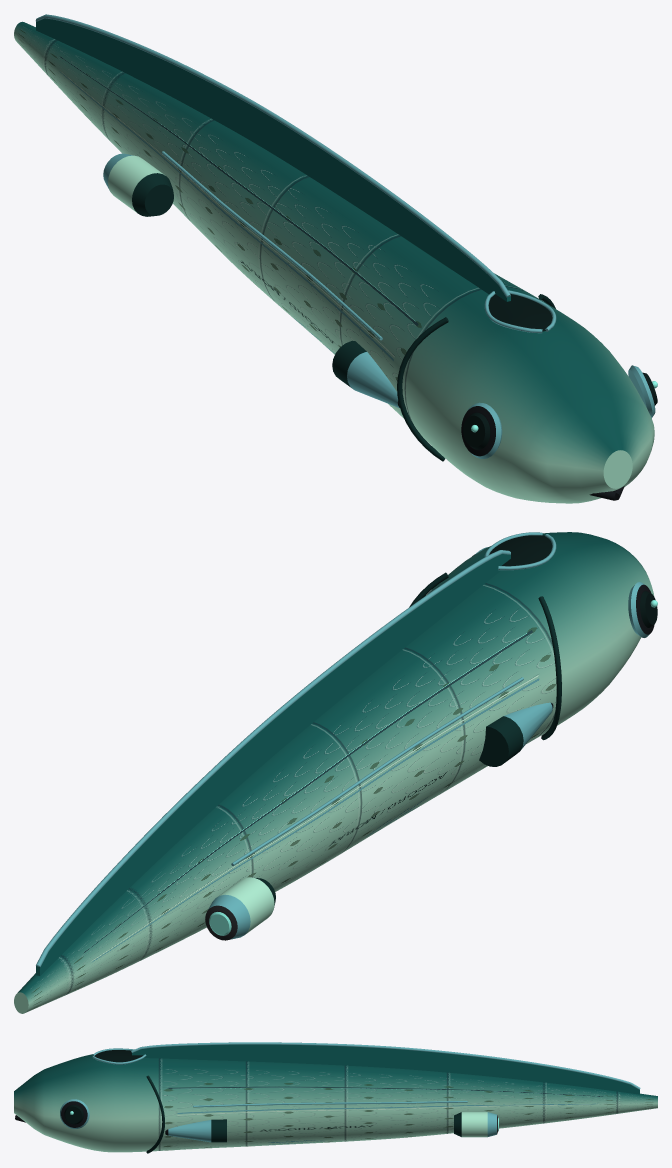
3 views of the same model, one above another, from view 1: azimuth 30°, elevation 25°; view 2: azimuth 150°, elevation 25°; view 3: azimuth 270°, elevation 25° (orthographic). The views are drawn at different scales.
Parts seen in each view (by area): view 1: moray_hull; view 2: moray_hull; view 3: moray_hull.
Part boxes in pixels (left/top/right/bottom): moray_hull: left=14, top=14, right=657, bottom=503; moray_hull: left=14, top=532, right=657, bottom=1013; moray_hull: left=14, top=1042, right=657, bottom=1153.
Size of the model in its own units: 10.79 by 10.8 by 60.
Materials: 1 (1 with a texture image).
